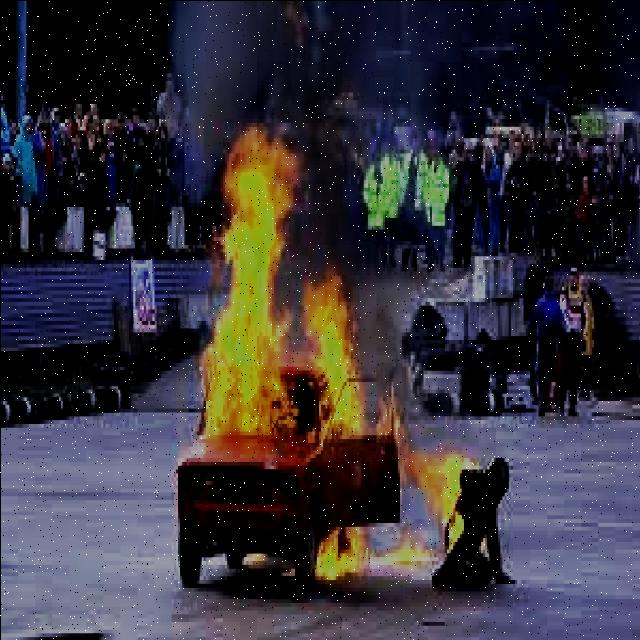api: (200, 131, 311, 451), (295, 260, 383, 595), (389, 398, 481, 554)
